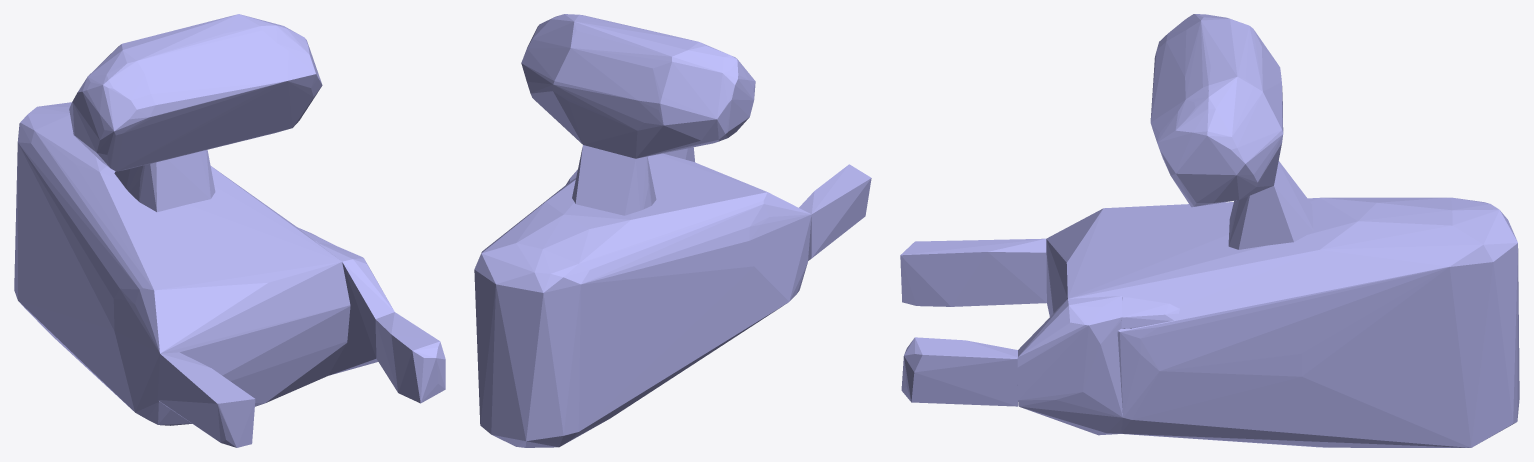
Rendered from gripper.glb.
3 views of the same model, side by side, from view 1: azimuth 30°, elevation 25°; view 2: azimuth 150°, elevation 25°; view 3: azimuth 270°, elevation 25° (orthographic). The views are drawn at different scales.
Parts seen in each view (by area): view 1: gripper.ply; view 2: gripper.ply; view 3: gripper.ply.
Boxes of the visible parts, bbox=[...] form: gripper.ply: bbox=[14, 14, 445, 447]; gripper.ply: bbox=[474, 14, 871, 447]; gripper.ply: bbox=[900, 14, 1519, 447].
Size of the model in its own units: 0.1332 by 0.2003 by 0.2927.
